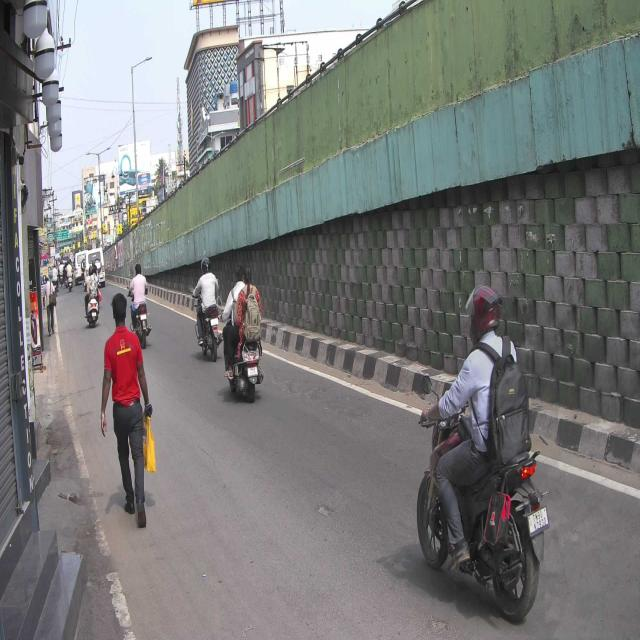double_rider: (222, 260, 266, 402)
single_rider: (416, 283, 548, 621)
